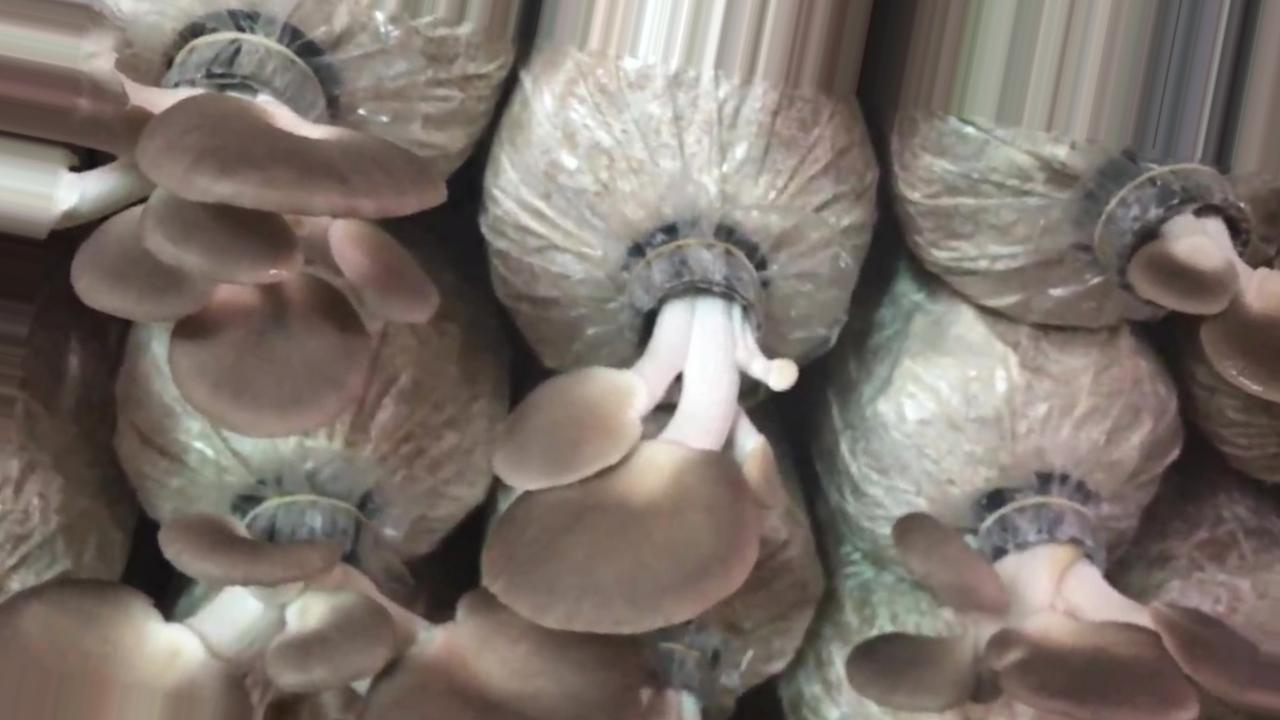nam: (4, 1, 499, 442), (1, 500, 643, 718), (473, 234, 805, 639), (842, 500, 1274, 720), (1111, 164, 1280, 396)
